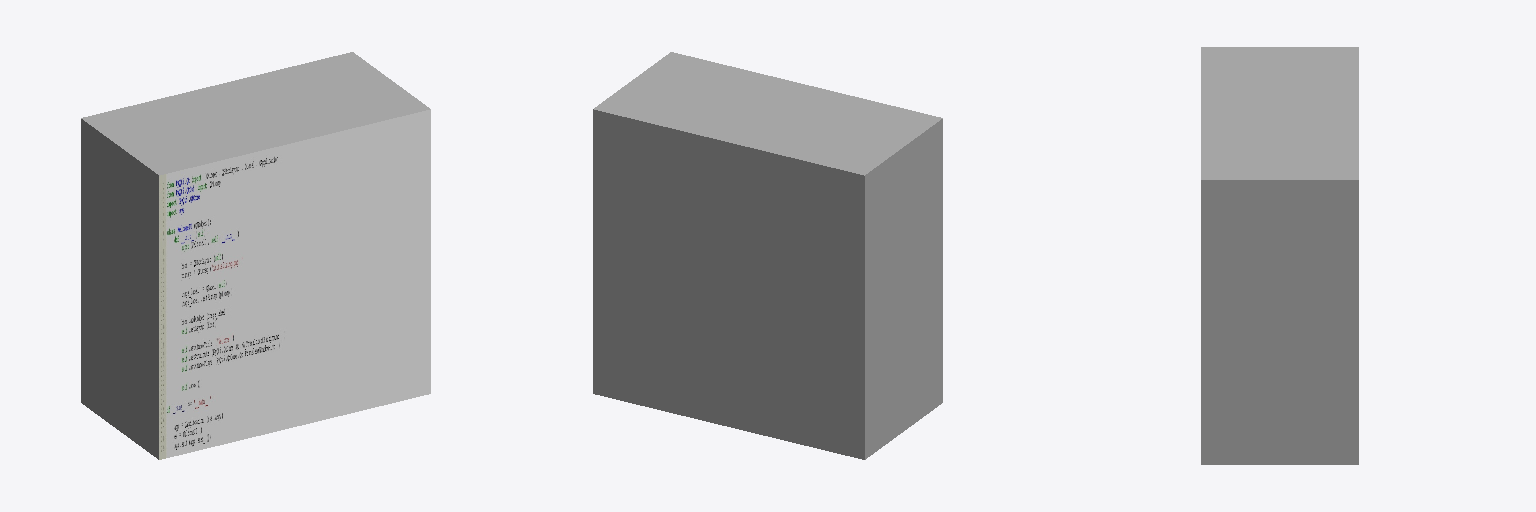
3 views of the same model, side by side, from view 1: azimuth 30°, elevation 25°; view 2: azimuth 150°, elevation 25°; view 3: azimuth 270°, elevation 25° (orthographic).
Size of the model in its own units: 40 by 40 by 20.
Materials: 2 (1 with a texture image).